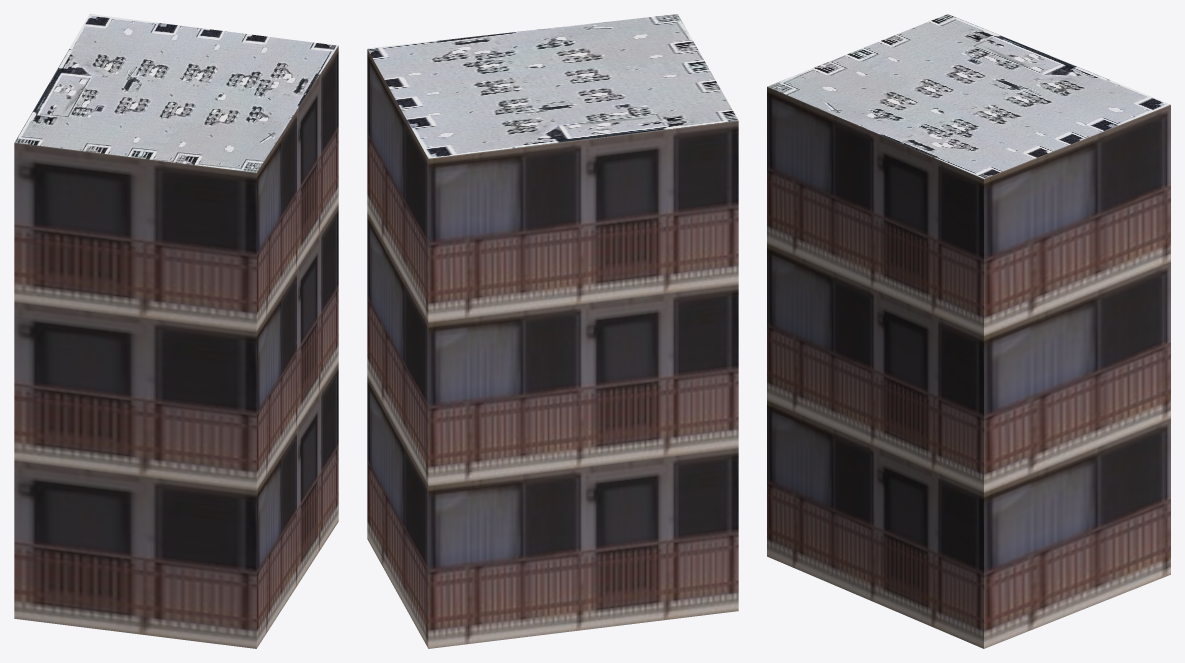
The model's file is ResTex__2887.fbx.
The picture shows the model from 3 angles, left to right: view 1: azimuth 30°, elevation 25°; view 2: azimuth 150°, elevation 25°; view 3: azimuth 270°, elevation 25°; orthographic projection. The views are drawn at different scales.
Visible parts, largest first — view 1: CityEngineMaterial_6_m, CityEngineMaterial_4_m; view 2: CityEngineMaterial_6_m, CityEngineMaterial_4_m; view 3: CityEngineMaterial_6_m, CityEngineMaterial_4_m.
Part boxes in pixels (left/top/right/bottom): CityEngineMaterial_6_m: left=14, top=46, right=338, bottom=648; CityEngineMaterial_4_m: left=14, top=14, right=337, bottom=172; CityEngineMaterial_6_m: left=367, top=49, right=738, bottom=648; CityEngineMaterial_4_m: left=367, top=14, right=738, bottom=158; CityEngineMaterial_6_m: left=767, top=86, right=1170, bottom=648; CityEngineMaterial_4_m: left=767, top=14, right=1170, bottom=178.
Bounding box in the file's own units: 6.78 × 9 × 7.01.
Materials: 2 (2 with a texture image).
